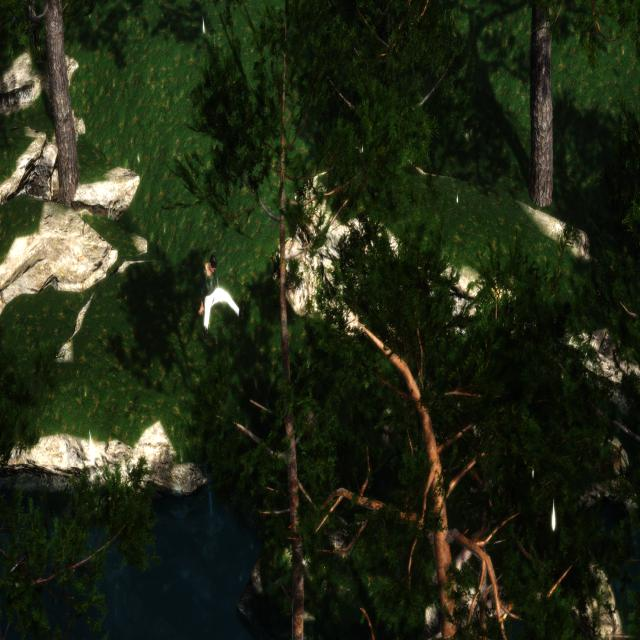Human: (193, 248, 246, 337)
